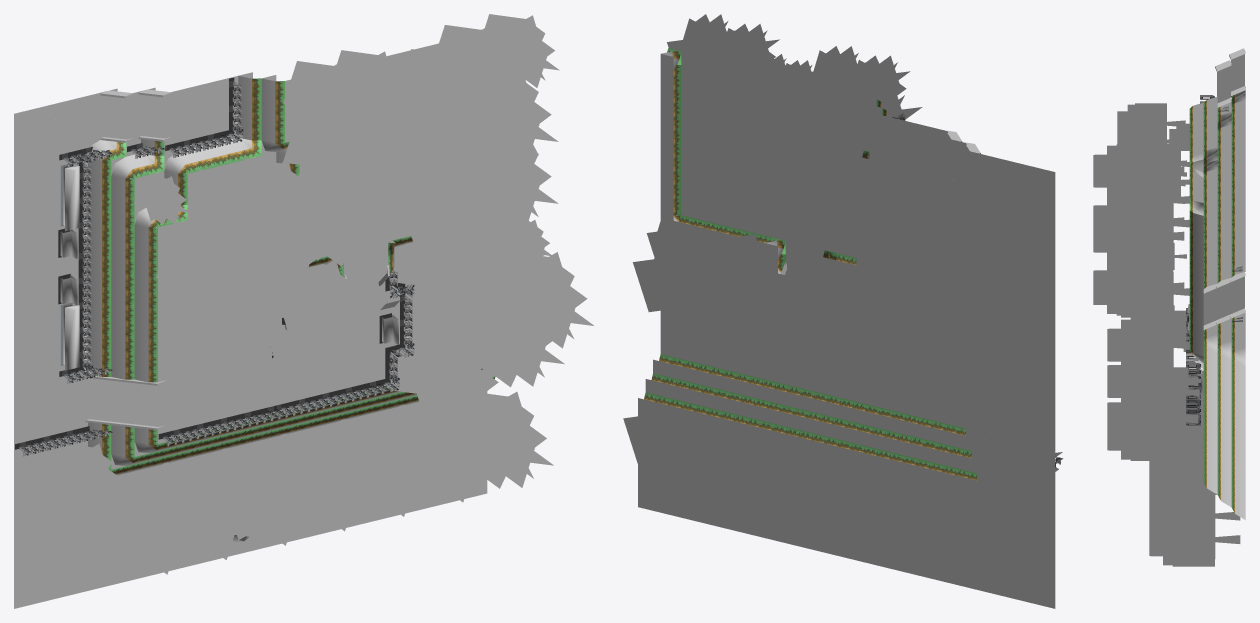
File: Asteria_31_38.obj
3 renders of one model, left to right at view 1: azimuth 30°, elevation 25°; view 2: azimuth 150°, elevation 25°; view 3: azimuth 270°, elevation 25°, orthographic. The views are drawn at different scales.
Visible parts, largest first — view 1: map; view 2: map; view 3: map.
Part boxes in pixels (x1,y1,x2,y2): map: (14,14,593,608); map: (623,14,1063,608); map: (1093,48,1245,566).
Bounding box in the file's own units: 34.61 × 33.46 × 10.9.
